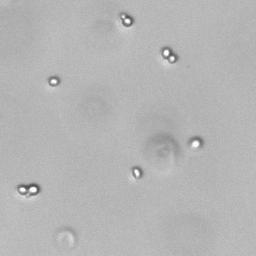budding: (16, 183, 41, 198), (161, 47, 178, 64), (118, 11, 134, 27)
individual: (187, 137, 203, 151), (47, 76, 61, 87), (132, 167, 142, 180)
